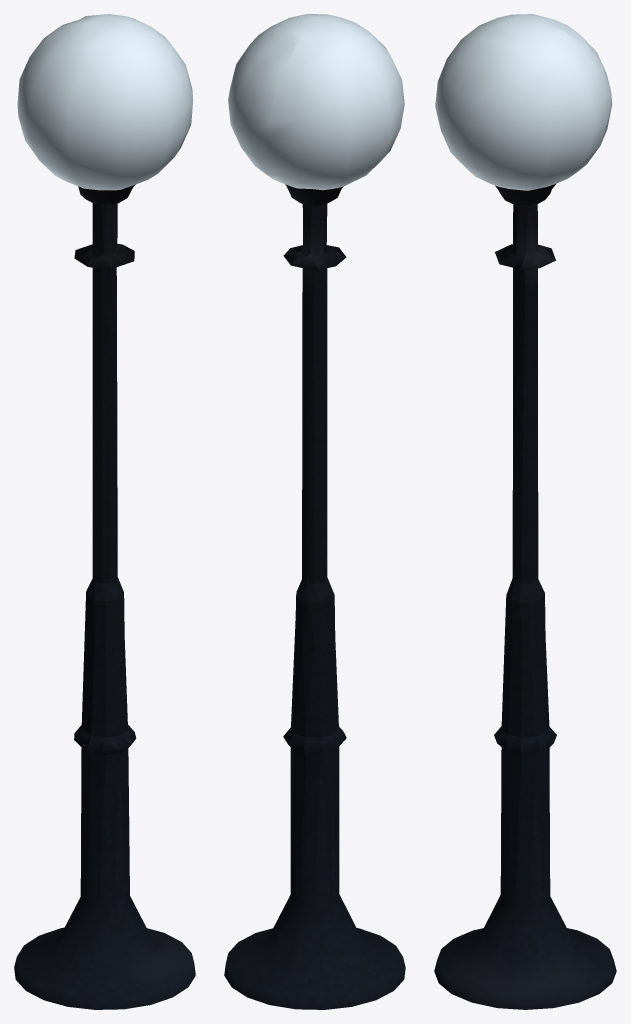
The picture shows the model from 3 angles, left to right: view 1: azimuth 30°, elevation 25°; view 2: azimuth 150°, elevation 25°; view 3: azimuth 270°, elevation 25°; orthographic projection.
Visible parts, largest first — view 1: polySurface378_001; view 2: polySurface378_001; view 3: polySurface378_001.
Boxes of the visible parts, x1,y1,x2,y2 form: polySurface378_001: (14,14,195,1009); polySurface378_001: (224,14,405,1009); polySurface378_001: (434,14,616,1009).
Bounding box in the file's own units: 45.18 × 259 × 45.18.
1 material, 1 textured.
